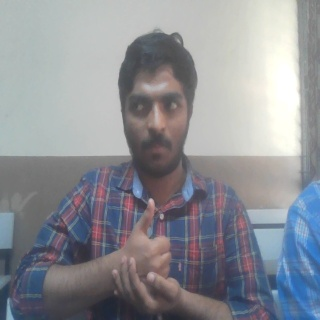Face: (117, 30, 199, 180)
Help: (109, 197, 184, 315)
